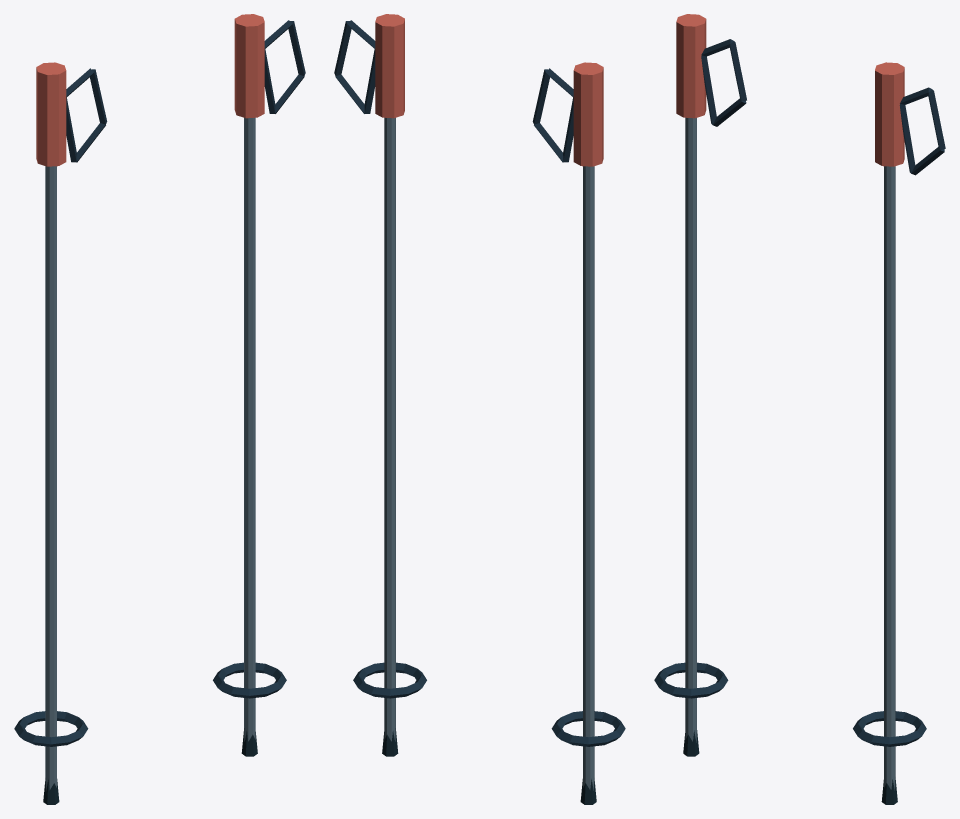
Rendered from ski-poles.glb.
3 renders of one model, left to right at view 1: azimuth 30°, elevation 25°; view 2: azimuth 150°, elevation 25°; view 3: azimuth 330°, elevation 25°, orthographic.
Parts seen in each view (by area): view 1: pole_left, pole_right, strap_right, strap_left; view 2: pole_left, pole_right, strap_right, strap_left; view 3: pole_left, pole_right, strap_left, strap_right.
Part boxes in pixels (x1=…): pole_left: x1=14, y1=62, x2=88, y2=804; pole_right: x1=213, y1=14, x2=286, y2=756; strap_right: x1=264, y1=20, x2=305, y2=113; strap_left: x1=66, y1=68, x2=107, y2=162; pole_left: x1=551, y1=62, x2=625, y2=804; pole_right: x1=353, y1=14, x2=426, y2=756; strap_right: x1=334, y1=20, x2=375, y2=113; strap_left: x1=532, y1=68, x2=573, y2=162; pole_left: x1=654, y1=14, x2=728, y2=756; pole_right: x1=853, y1=62, x2=926, y2=804; strap_left: x1=701, y1=39, x2=746, y2=126; strap_right: x1=899, y1=87, x2=945, y2=175.
Bounding box in the file's own units: 0.4909 × 1.2 × 0.11.
